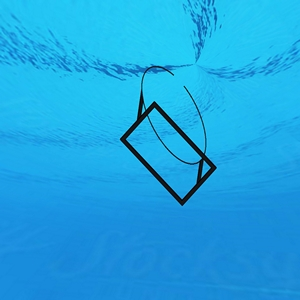circle: (119, 64, 219, 207)
